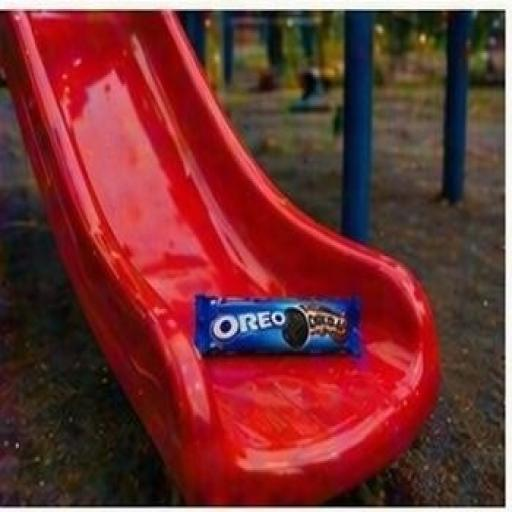oreo: (158, 246, 394, 402)
